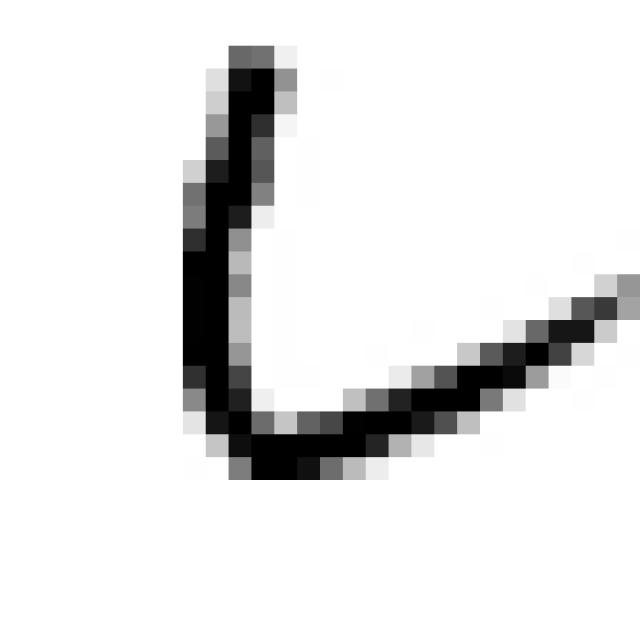7 -seven-: (148, 25, 640, 496)
